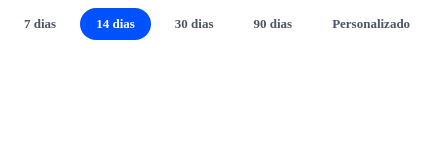
PeriodFilter custom period (PAC-03, PAC-04) › shows no date fields until Personalizado is chosen, then fills them with the current period
Expected: the field labelled "Início" is not shown
Click the button "Personalizado" at [371, 24], box [316,8,426,40]
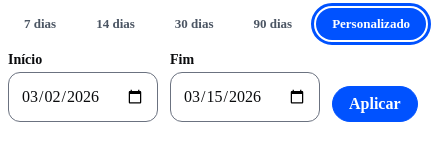
Expected: the date field labelled "Início" holds "2026-03-02", [8,72,158,122]
Expected: the date field labelled "Fim" holds "2026-03-15", [170,72,320,122]
